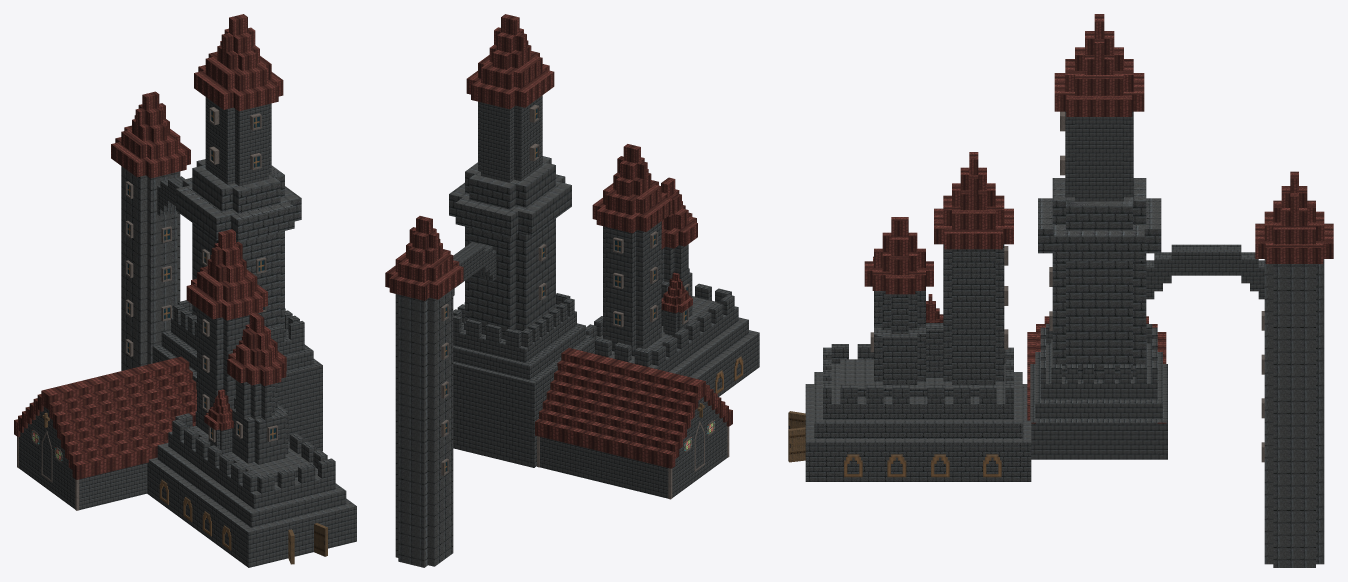
The model's file is Hungry_Castle_LOD.fbx.
The picture shows the model from 3 angles, left to right: view 1: azimuth 30°, elevation 25°; view 2: azimuth 150°, elevation 25°; view 3: azimuth 270°, elevation 25°; orthographic projection. The views are drawn at different scales.
Parts seen in each view (by area): view 1: Castle, Castle LOD, Castle_interior; view 2: Castle, Castle LOD, Castle_interior; view 3: Castle, Castle LOD, Castle_interior.
Part boxes in pixels (<box>): Castle: <box>14,14,356,567</box>; Castle LOD: <box>17,166,356,564</box>; Castle_interior: <box>17,405,327,564</box>; Castle: <box>385,14,759,567</box>; Castle LOD: <box>398,146,759,567</box>; Castle_interior: <box>537,356,743,499</box>; Castle: <box>805,14,1333,567</box>; Castle LOD: <box>813,159,1166,473</box>; Castle_interior: <box>788,411,1001,477</box>.
Size of the model in its own units: 36.67 by 68.48 by 62.8.
